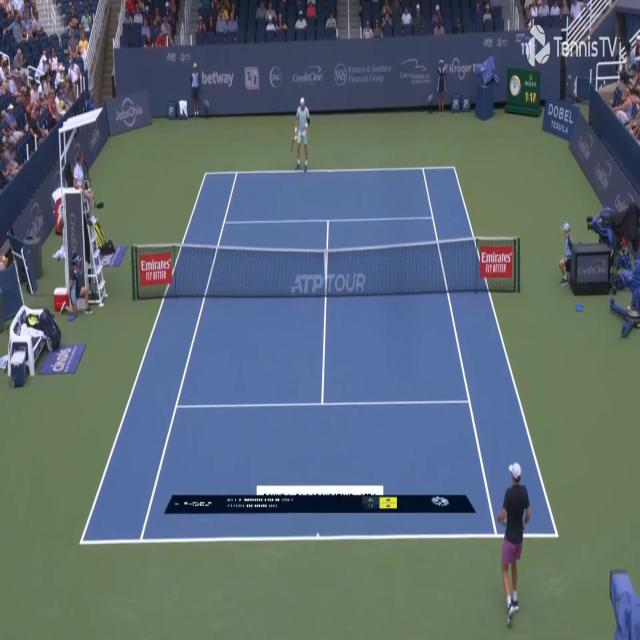tennis-player: (498, 461, 532, 628), (291, 95, 310, 172)
